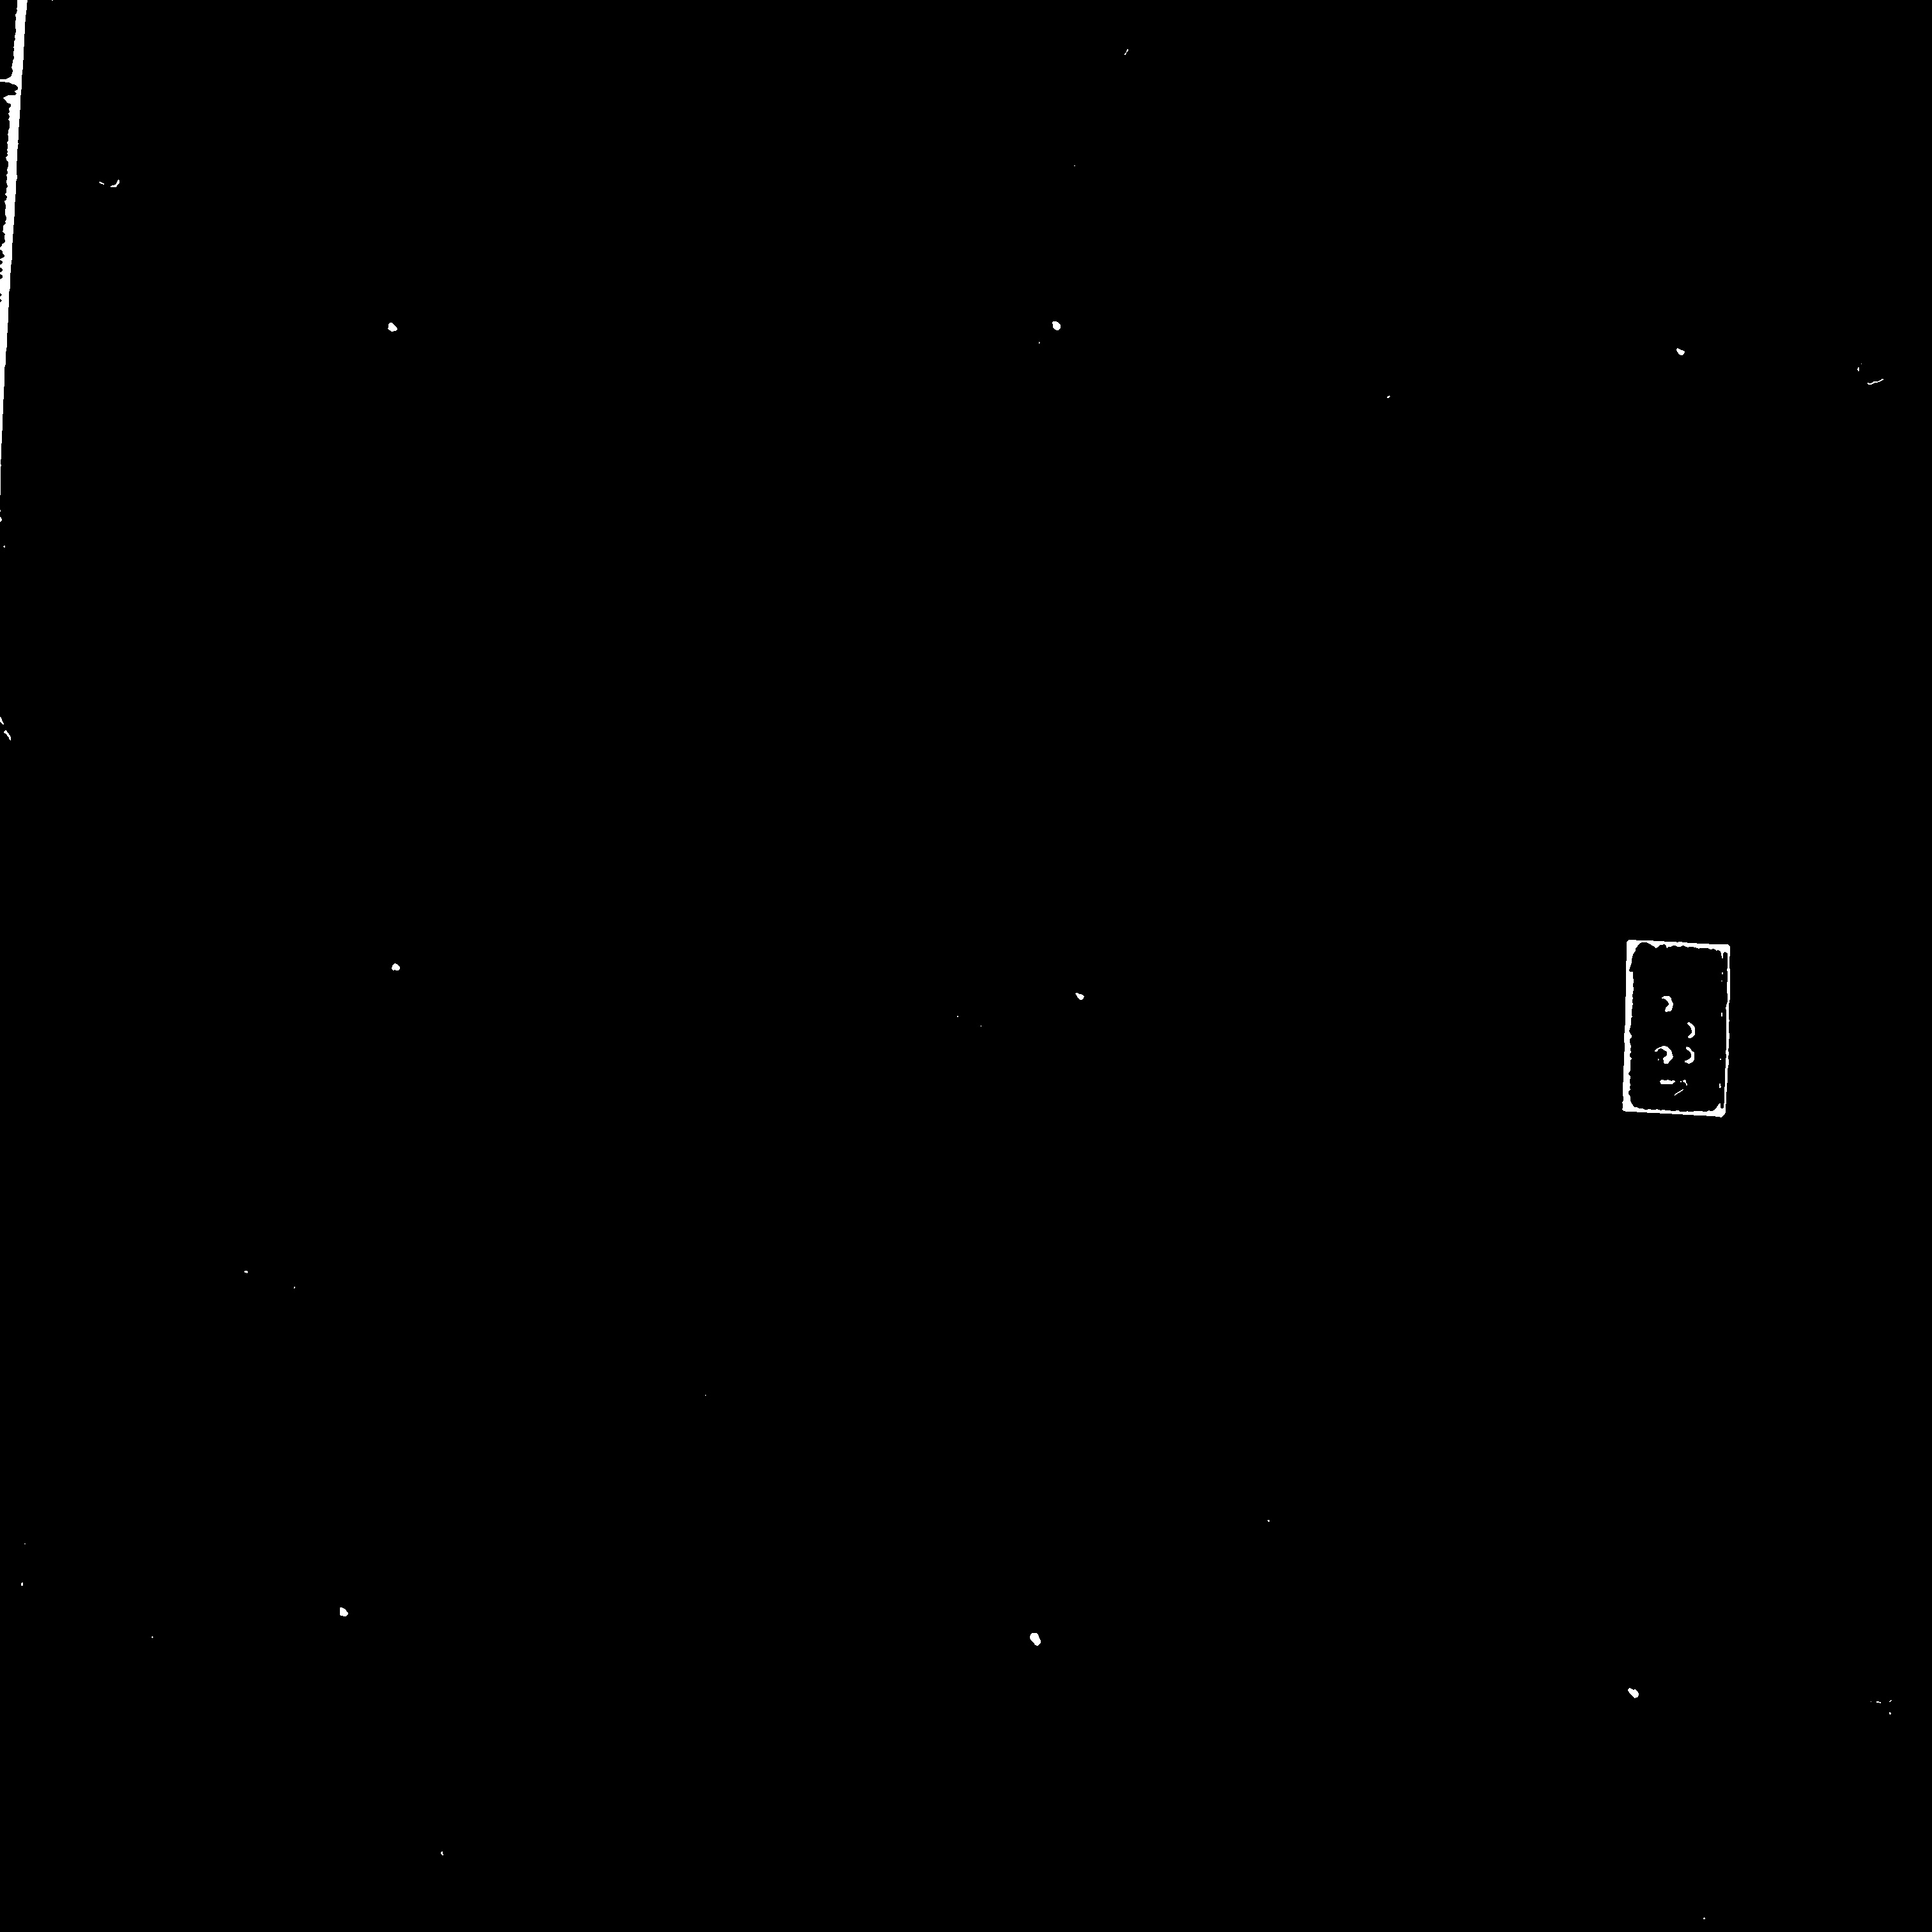z: (1642, 985, 1703, 1071)
